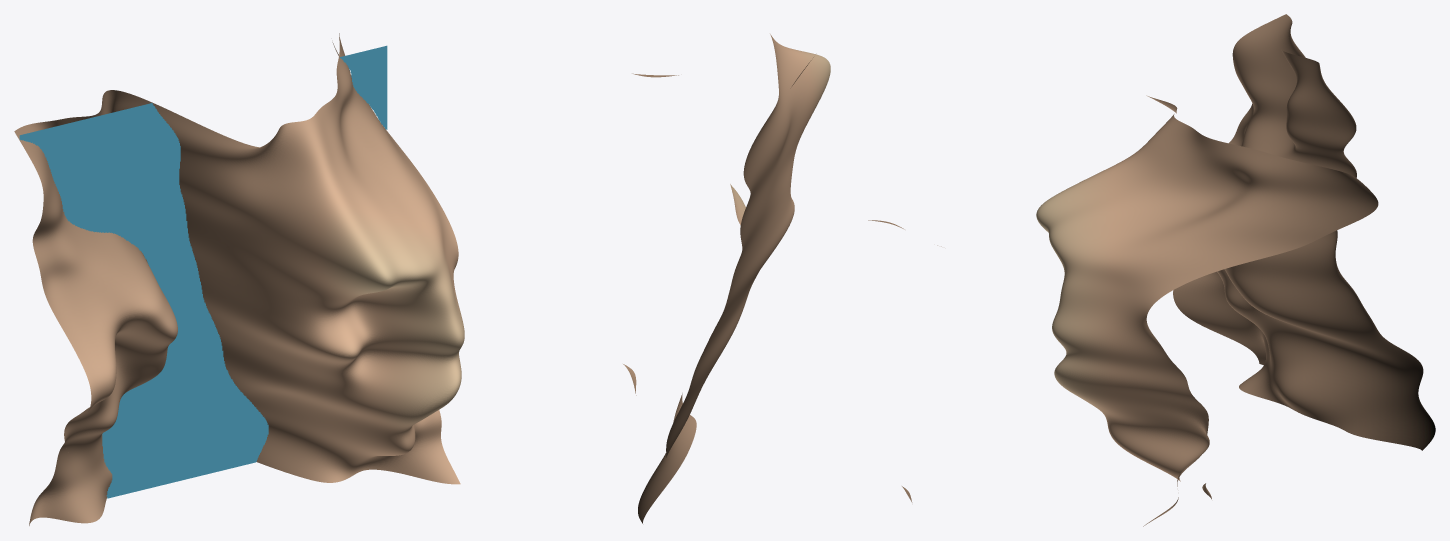
Rendered from canyon_ridges_terrain.glb.
3 renders of one model, left to right at view 1: azimuth 30°, elevation 25°; view 2: azimuth 150°, elevation 25°; view 3: azimuth 270°, elevation 25°, orthographic. The views are drawn at different scales.
Parts seen in each view (by area): view 1: paceval_height_field, separate_constant_height_water_geometry; view 2: paceval_height_field; view 3: paceval_height_field.
Boxes of the visible parts, x1,y1,x2,y2 form: paceval_height_field: (14,33,464,525); separate_constant_height_water_geometry: (19,45,387,498); paceval_height_field: (623,34,941,523); paceval_height_field: (1036,14,1435,526).
Bounding box in the file's own units: 2 × 2 × 2.07.
